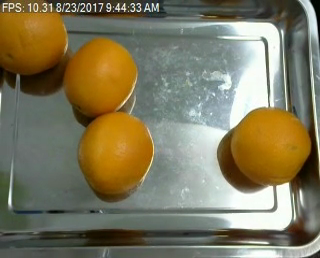Orange: (229, 105, 311, 185), (78, 113, 154, 194), (64, 37, 139, 116)
